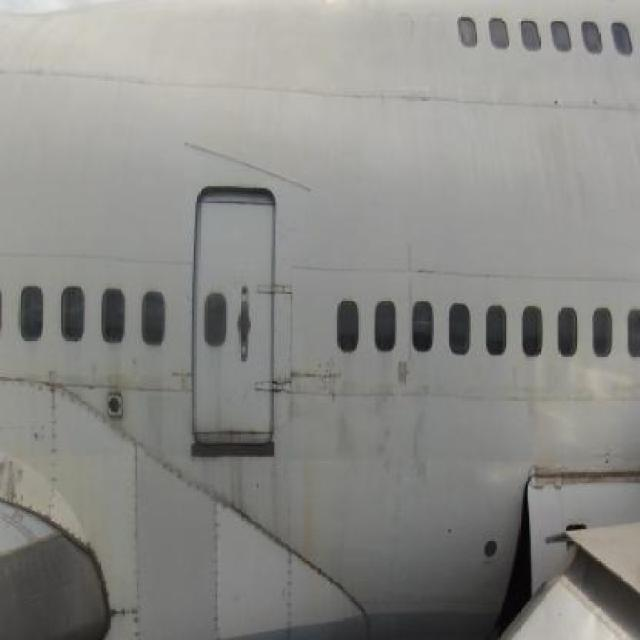Rust: (290, 390, 324, 575), (397, 359, 412, 398)
Scartch: (0, 443, 38, 514)
